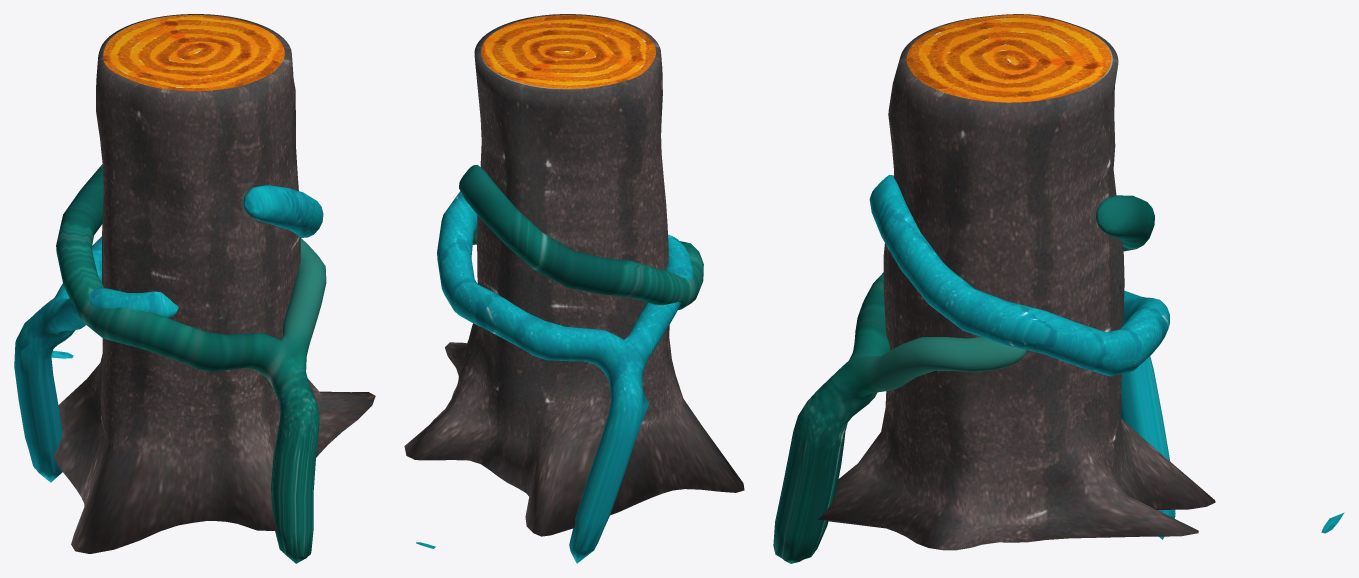
The model's file is arbres-seul-branche.fbx.
The picture shows the model from 3 angles, left to right: view 1: azimuth 30°, elevation 25°; view 2: azimuth 150°, elevation 25°; view 3: azimuth 270°, elevation 25°; orthographic projection. The views are drawn at different scales.
Visible parts, largest first — view 1: Cylinder.002, Roundcube.002, Roundcube.004; view 2: Cylinder.002, Roundcube.004, Roundcube.002; view 3: Cylinder.002, Roundcube.002, Roundcube.004.
Boxes of the visible parts, left/top/right/bottom form: Cylinder.002: left=53, top=14, right=375, bottom=553; Roundcube.002: left=56, top=164, right=326, bottom=563; Roundcube.004: left=14, top=185, right=323, bottom=482; Cylinder.002: left=404, top=14, right=744, bottom=536; Roundcube.004: left=416, top=191, right=693, bottom=563; Roundcube.002: left=459, top=165, right=703, bottom=309; Cylinder.002: left=817, top=14, right=1215, bottom=550; Roundcube.002: left=773, top=195, right=1154, bottom=563; Roundcube.004: left=869, top=175, right=1344, bottom=539.
Size of the model in its own units: 360 by 524 by 519.
4 materials, 4 textured.
